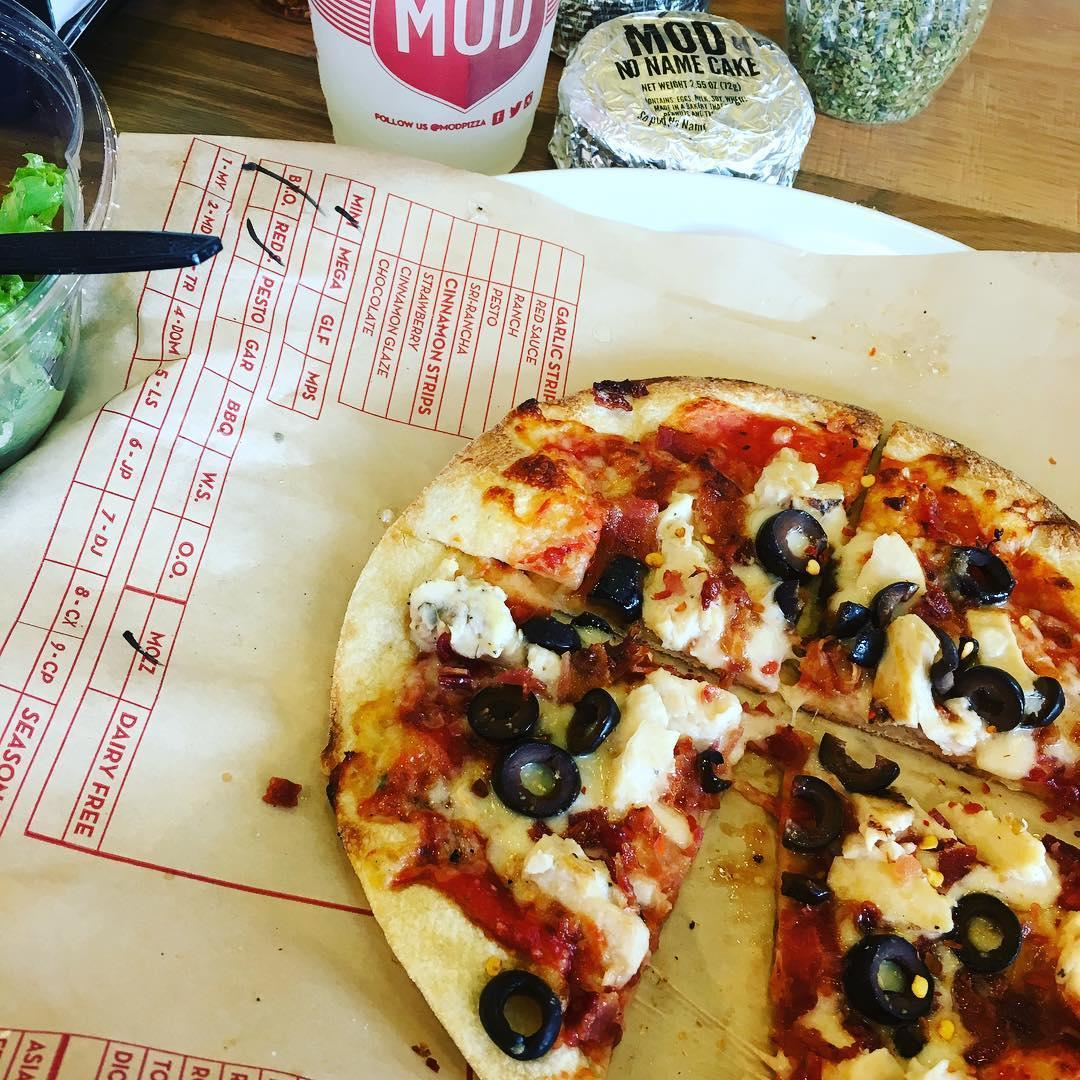Olives: (840, 925, 944, 1038), (470, 960, 570, 1066), (488, 734, 588, 827), (753, 496, 843, 583), (946, 881, 1020, 979), (808, 729, 906, 797), (777, 772, 851, 856), (951, 665, 1029, 737), (586, 546, 653, 627), (943, 541, 1018, 611), (466, 681, 540, 748), (561, 685, 625, 758), (512, 609, 581, 662), (772, 864, 837, 918), (1024, 663, 1067, 741), (870, 578, 921, 636), (770, 571, 808, 631), (851, 624, 888, 672), (830, 591, 870, 635), (571, 609, 618, 643)
Pizza: (315, 370, 1080, 1080)
